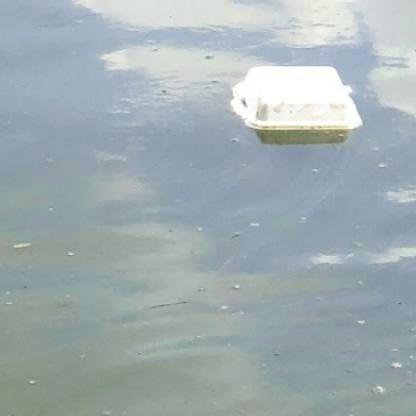Plastic: (229, 61, 366, 135)
